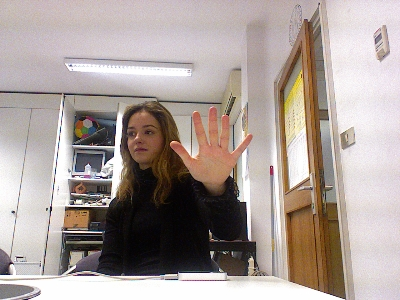布: (168, 105, 253, 184)
